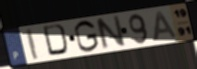9: (128, 13, 150, 45)
A: (153, 10, 179, 42)
D: (42, 23, 72, 58)
G: (73, 19, 100, 54)
I: (24, 27, 41, 61)
N: (94, 14, 127, 52)
